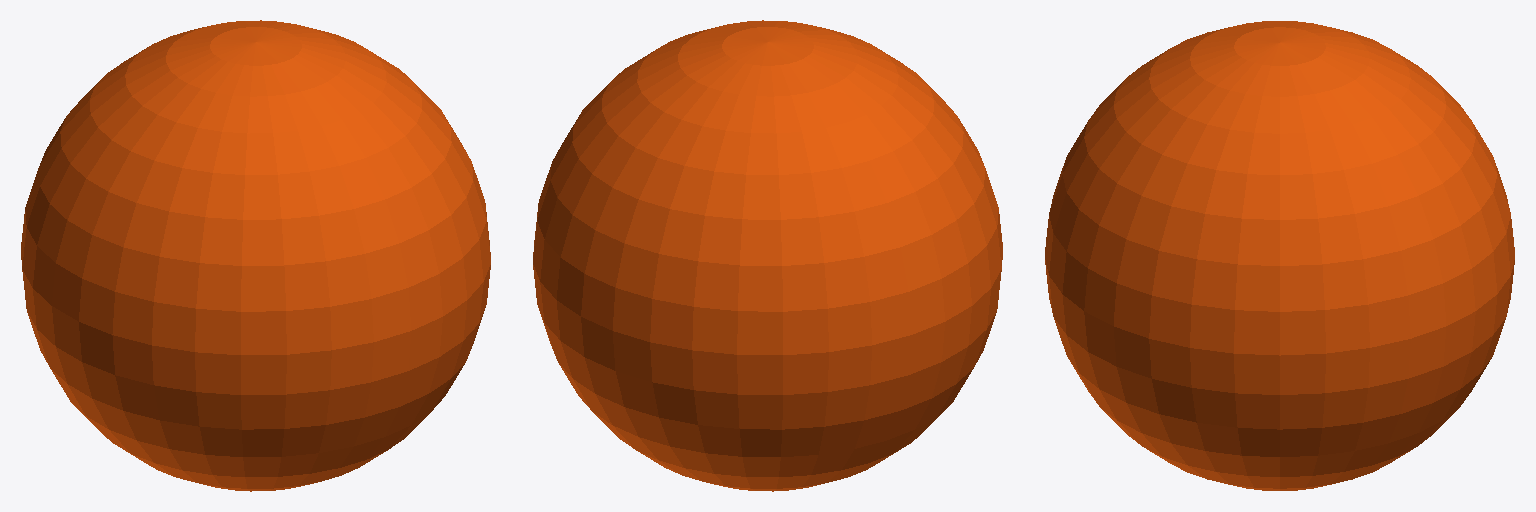
robot.urdf — sphere:
<?xml version='1.0' encoding='UTF-8'?>
<robot name="sphere">
  <link name="base_link">
    <inertial>
      <origin xyz="0.0 0.0 0.0" rpy="0.0 -0.0 0.0"/>
      <mass value="1.0"/>
      <inertia ixx="1.0" ixy="0.0" ixz="0.0" iyy="1.0" iyz="0.0" izz="1.0"/>
    </inertial>
    <visual name="base_link_visual">
      <geometry>
        <sphere radius="0.476"/>
      </geometry>
      <origin xyz="0 0 0" rpy="0 0 0"/>
      <material name="object_color">
        <color rgba="0.9 0.4 0.1 1"/>
      </material>
    </visual>
    <collision name="base_link_collision">
      <geometry>
        <sphere radius="0.476"/>
      </geometry>
      <origin xyz="0 0 0" rpy="0 0 0"/>
    </collision>
  </link>
</robot> 

--- Render facts (derived) ---
Views: 3 orthographic renders of the robot side by side, from view 1: azimuth 30°, elevation 25°; view 2: azimuth 150°, elevation 25°; view 3: azimuth 270°, elevation 25°.
Model sphere with 1 links and 0 joints (none), rooted at base_link, posed all joints at 0.
Links seen in each view (by area): view 1: base_link; view 2: base_link; view 3: base_link.
Link boxes in pixels (x1,y1,x2,y2): base_link: [21, 20, 490, 491]; base_link: [533, 20, 1002, 491]; base_link: [1045, 21, 1514, 490].
Size in the robot's own frame: 0.952 by 0.952 by 0.952 metres.
Geometry: primitives only (box / cylinder / sphere), no mesh files.
